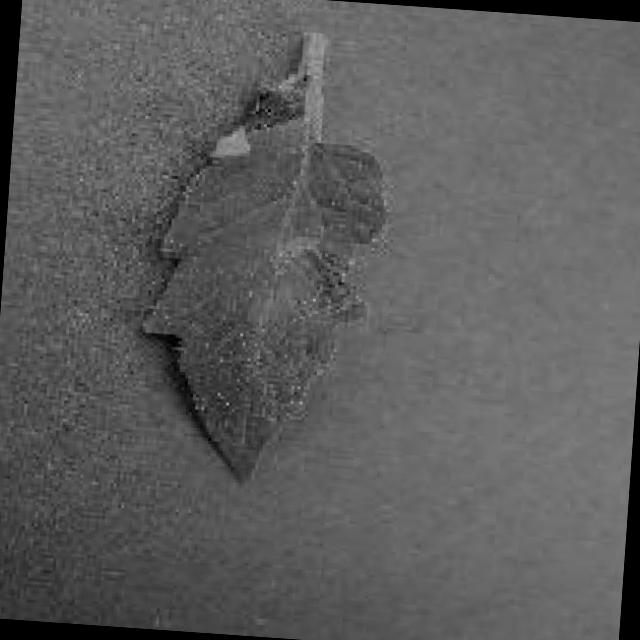leaf blight: (126, 20, 400, 484)
